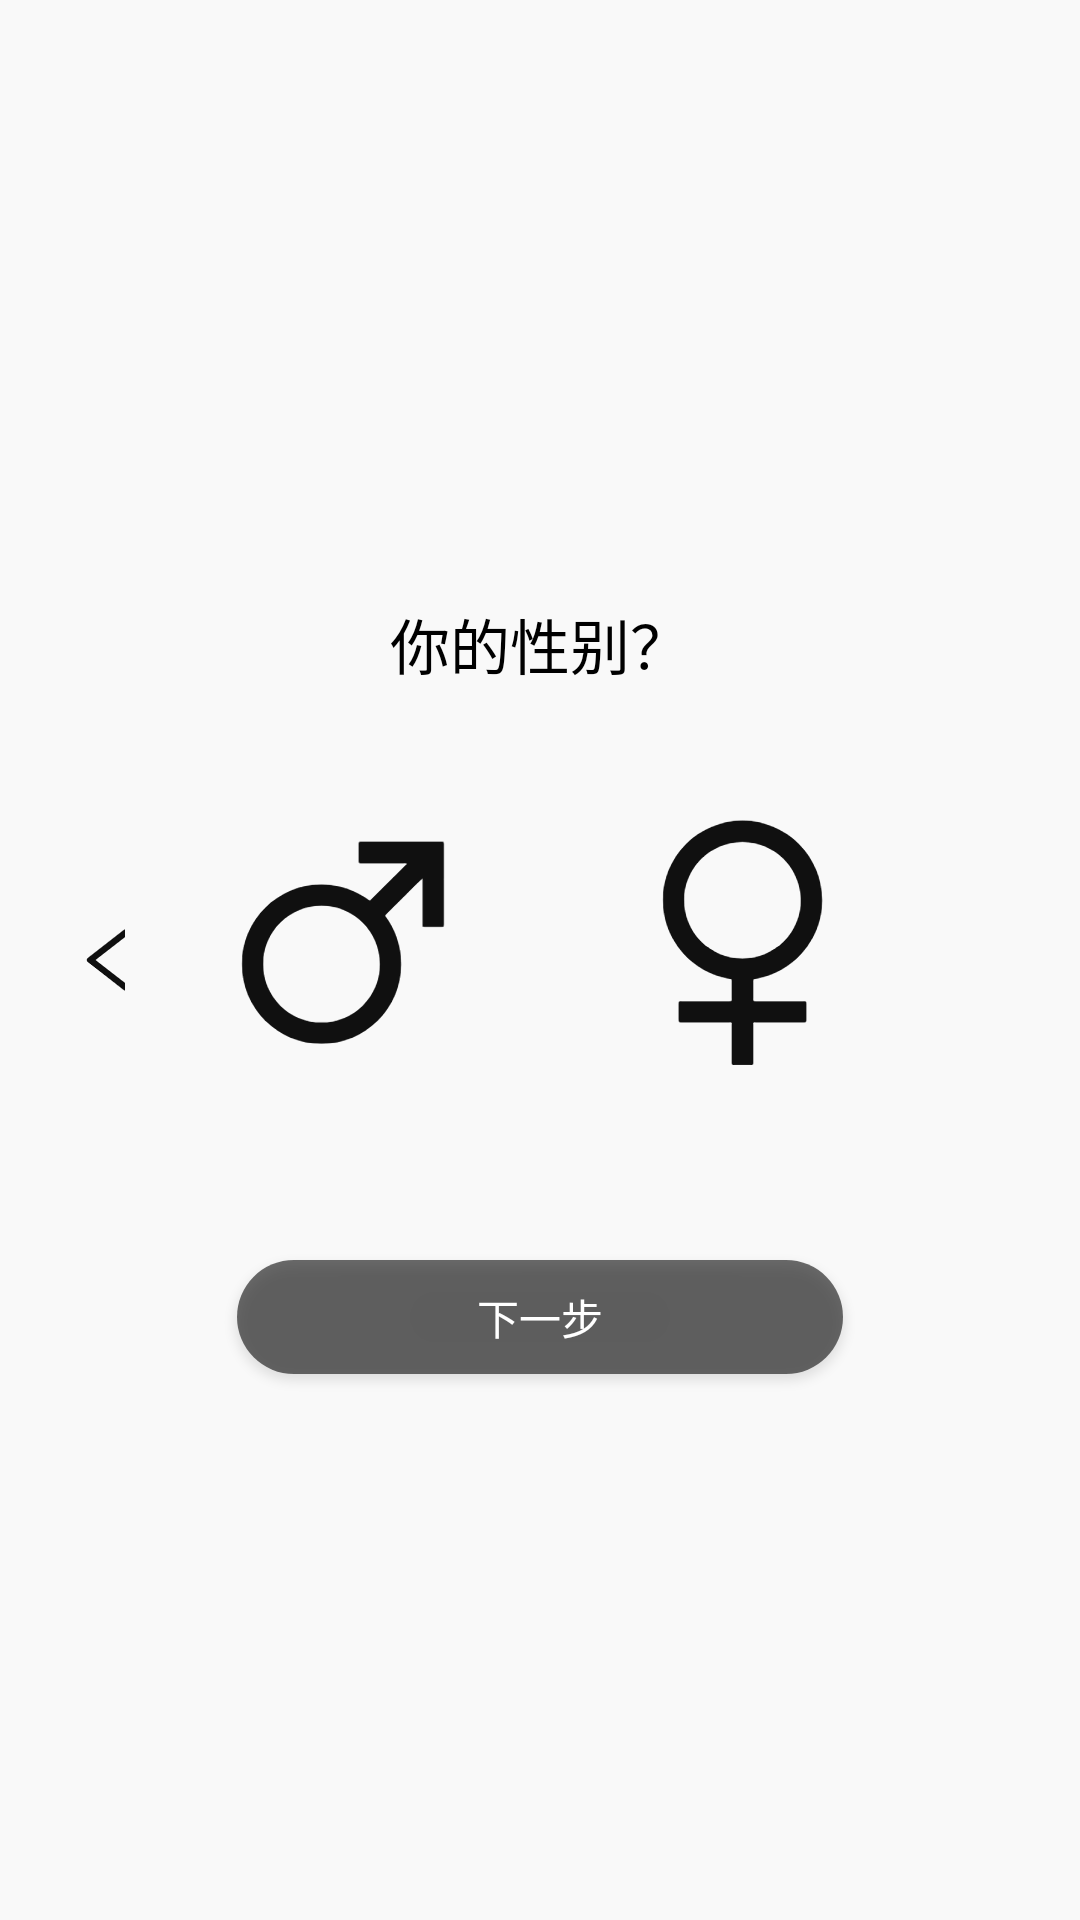

Icons on this 1080 x 1920 Android screen, each with the point to tap as (x=x, y=y):
gender female: (x=743, y=942)
gender male: (x=343, y=942)
